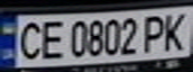0: (66, 17, 90, 59), (103, 16, 124, 57)
2: (118, 15, 142, 56)
8: (84, 17, 106, 57)
C: (12, 18, 45, 62)
E: (36, 17, 66, 61)
K: (157, 9, 193, 53)
P: (139, 11, 172, 54)
